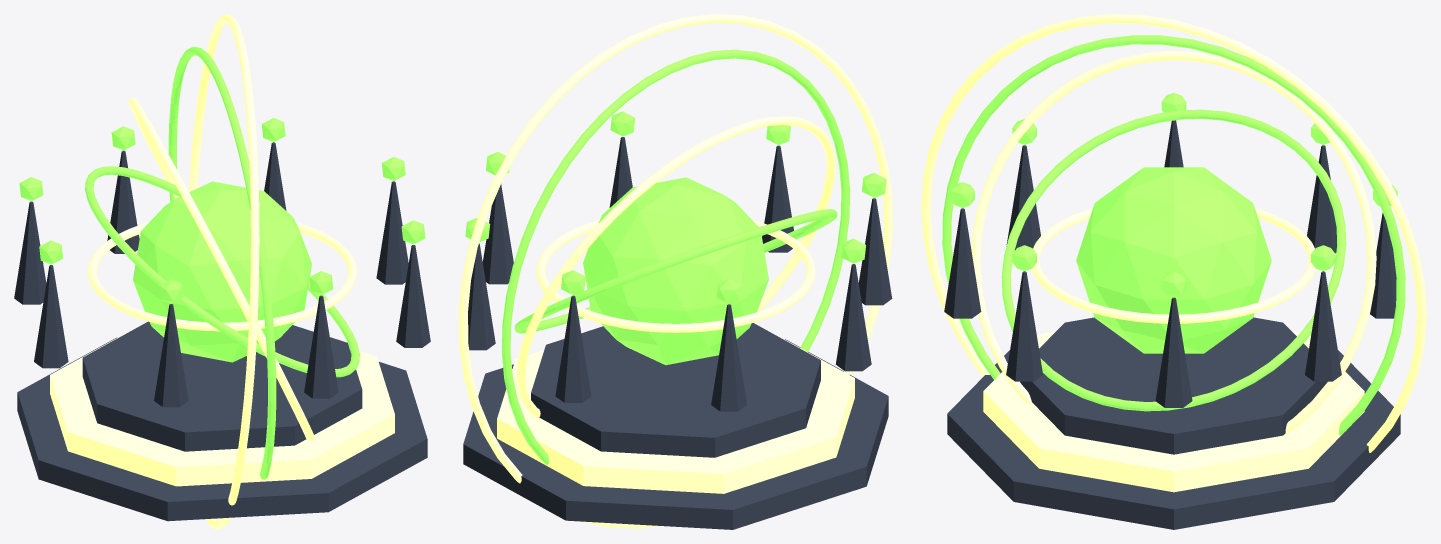
File: gpu-blender-v3.glb
3 views of the same model, side by side, from view 1: azimuth 30°, elevation 25°; view 2: azimuth 150°, elevation 25°; view 3: azimuth 270°, elevation 25° (orthographic). The views are drawn at different scales.
Visible parts, largest first — view 1: Cylinder.002, Cylinder, SovereignCore_agent-policy-auditor, Cylinder.001, Torus.004, Torus.003, Torus.001, Torus.002, Torus, Cone.005, Cone.004, Cone.006 (+5 smaller); view 2: Cylinder.002, SovereignCore_agent-policy-auditor, Cylinder, Cylinder.001, Torus.004, Torus.003, Torus.002, Torus.001, Torus, Cone.004, Cone.003, Cone.002 (+5 smaller); view 3: SovereignCore_agent-policy-auditor, Cylinder.002, Cylinder, Cylinder.001, Torus.004, Torus.003, Torus.002, Torus.001, Torus, Cone.006, Cone.001, Cone.007 (+5 smaller).
Boxes of the visible parts, x1,y1,x2,y2 form: Cylinder.002: (82, 321, 362, 451); Cylinder: (17, 337, 427, 521); SovereignCore_agent-policy-auditor: (133, 181, 311, 362); Cylinder.001: (50, 329, 394, 486); Torus.004: (189, 14, 259, 529); Torus.003: (168, 46, 276, 479); Torus.001: (85, 166, 359, 377); Torus.002: (129, 98, 314, 440); Torus: (88, 222, 356, 331); Cone.005: (154, 304, 188, 407); Cone.004: (34, 265, 68, 368); Cone.006: (304, 295, 338, 398); Cylinder.002: (531, 323, 820, 457); SovereignCore_agent-policy-auditor: (583, 177, 768, 365); Cylinder: (463, 339, 888, 529); Cylinder.001: (497, 330, 854, 493); Torus.004: (459, 14, 892, 528); Torus.003: (501, 49, 850, 464); Torus.002: (516, 116, 835, 418); Torus.001: (514, 209, 837, 333); Torus: (536, 219, 815, 332); Cone.004: (835, 264, 871, 371); Cone.003: (711, 304, 746, 411); Cone.002: (555, 295, 591, 402); SovereignCore_agent-policy-auditor: (1076, 167, 1271, 353); Cylinder.002: (1020, 317, 1327, 454); Cylinder: (947, 350, 1400, 529); Cylinder.001: (983, 331, 1364, 492); Torus.004: (921, 14, 1426, 452); Torus.003: (942, 35, 1405, 435); Torus.002: (972, 50, 1376, 434); Torus.001: (1001, 109, 1346, 411); Torus: (1031, 208, 1316, 323); Cone.006: (944, 208, 981, 318); Cone.001: (1305, 271, 1341, 381); Cone.007: (1006, 271, 1042, 381).
Bounding box in the file's own units: 4.41 × 5.33 × 4.9.
